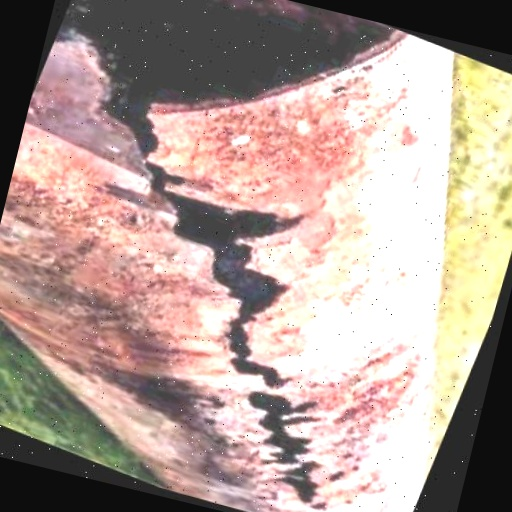corrosion: (0, 120, 253, 374), (211, 71, 406, 219), (334, 322, 447, 452)
crack: (67, 394, 463, 512)
